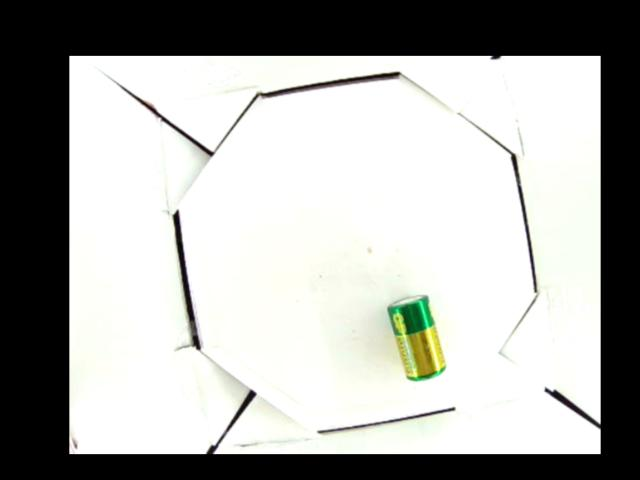Battery: (387, 294, 447, 381)
